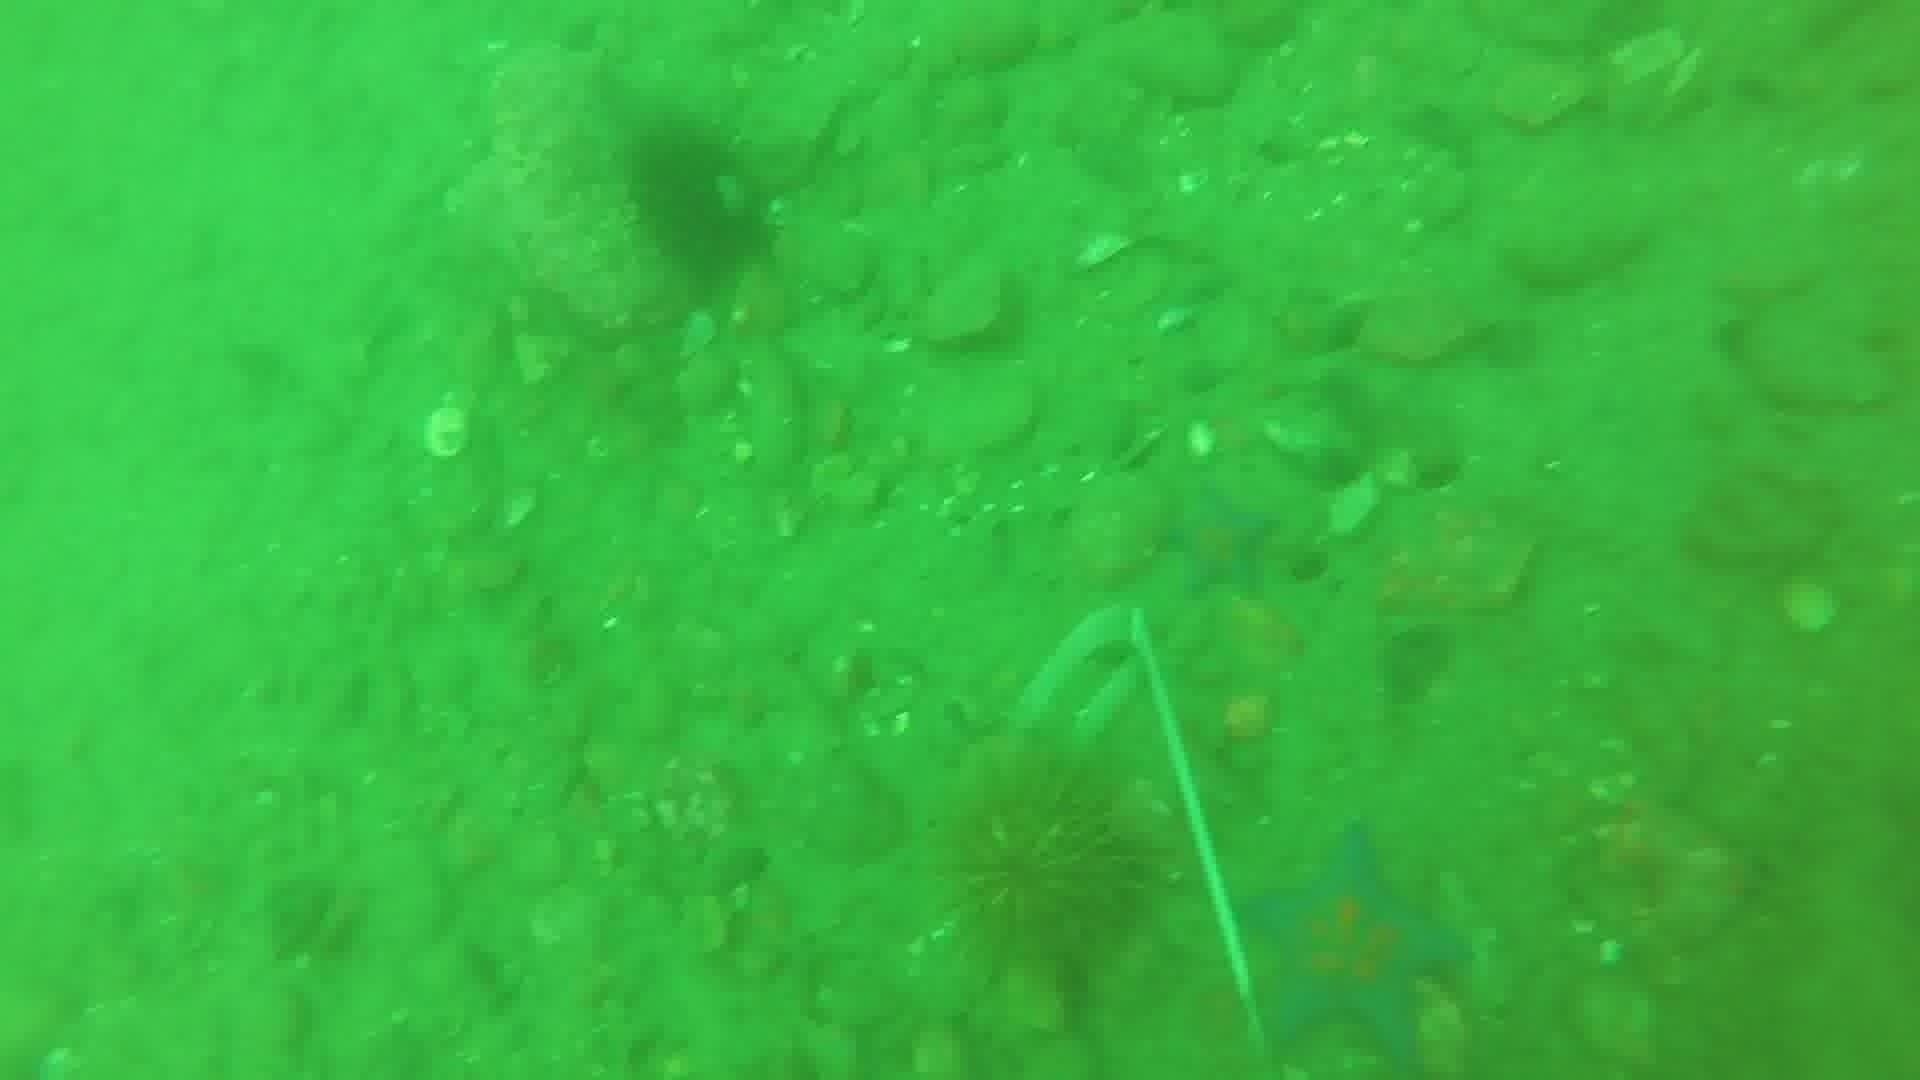echinus: (930, 737, 1162, 1000), (622, 121, 771, 273)
starfish: (1230, 824, 1472, 1073), (1156, 481, 1283, 600)
